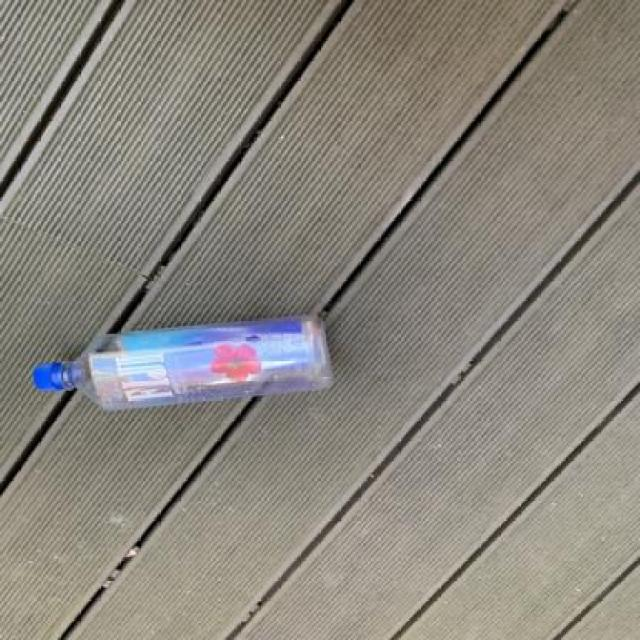trash: (31, 310, 340, 422)
